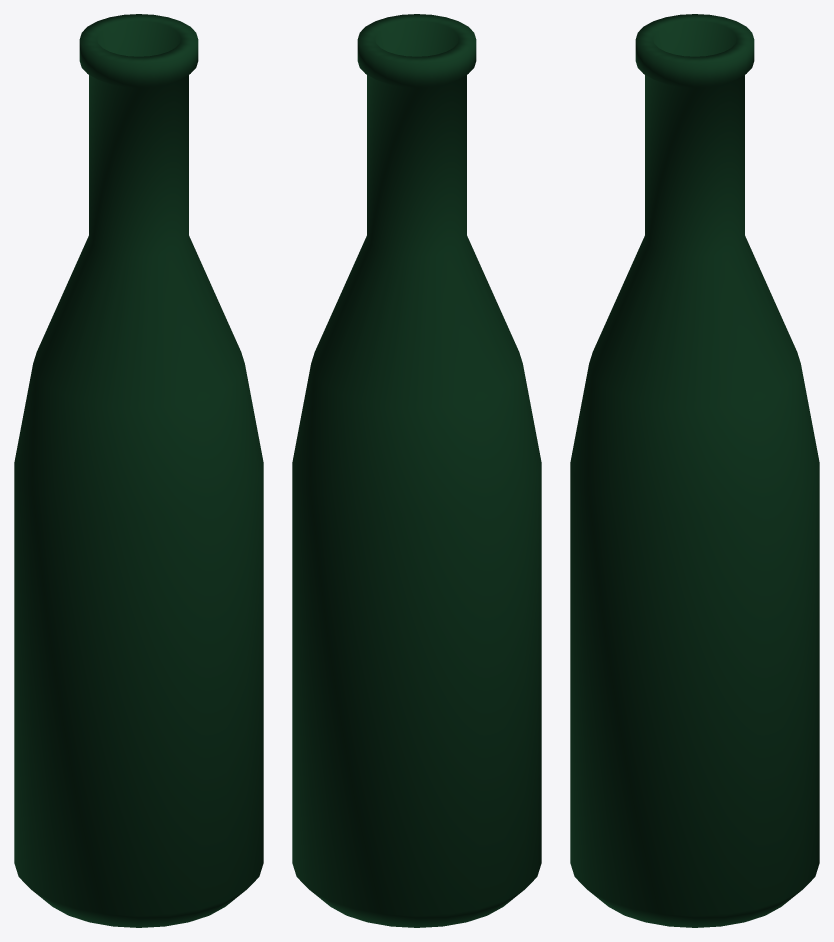
Rendered from botella.obj.
3 views of the same model, side by side, from view 1: azimuth 30°, elevation 25°; view 2: azimuth 150°, elevation 25°; view 3: azimuth 270°, elevation 25° (orthographic).
Parts seen in each view (by area): view 1: botella; view 2: botella; view 3: botella.
Part boxes in pixels (<box>): botella: <box>14,14,263,927</box>; botella: <box>292,14,541,927</box>; botella: <box>570,14,819,927</box>.
Bounding box in the file's own units: 0.08 × 0.3 × 0.08.
Materials: 1 (1 with a texture image).
